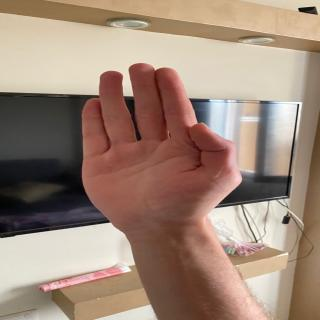SEEN: (73, 58, 251, 232)
